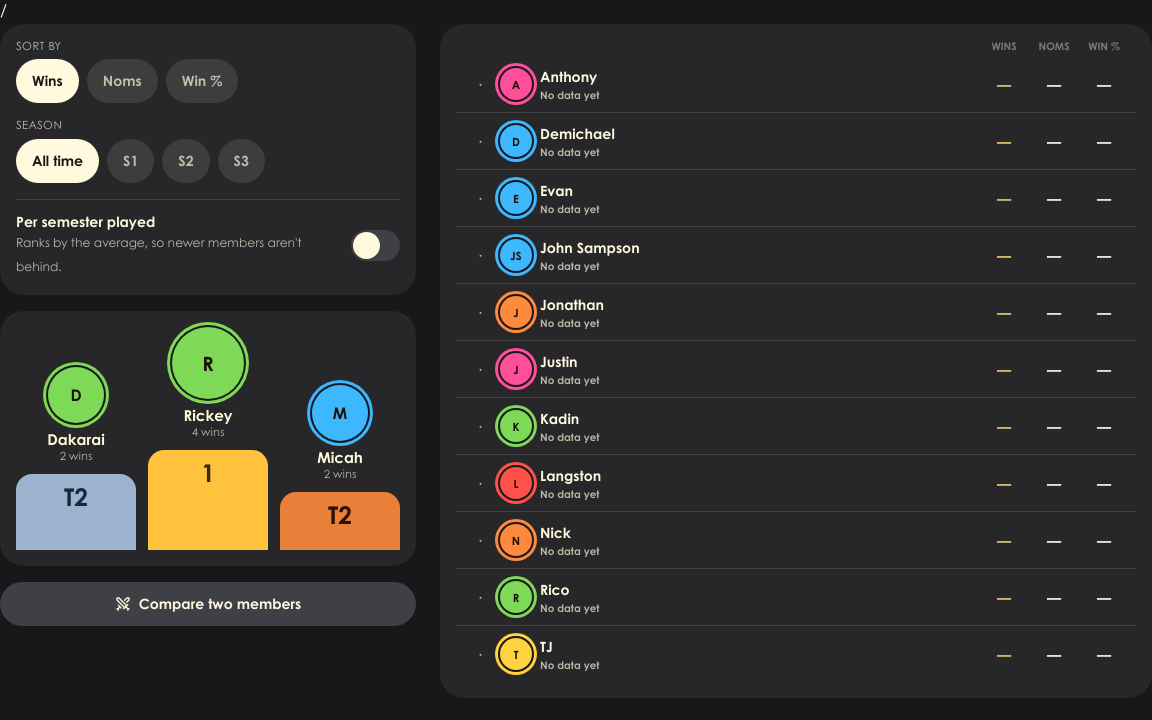
Test case: Compare sheet › fewer than 2 shared semesters: no verdict, just the count
Click the button "Compare two members" at point(208, 604), box [0, 582, 416, 626]
(page scrolled)
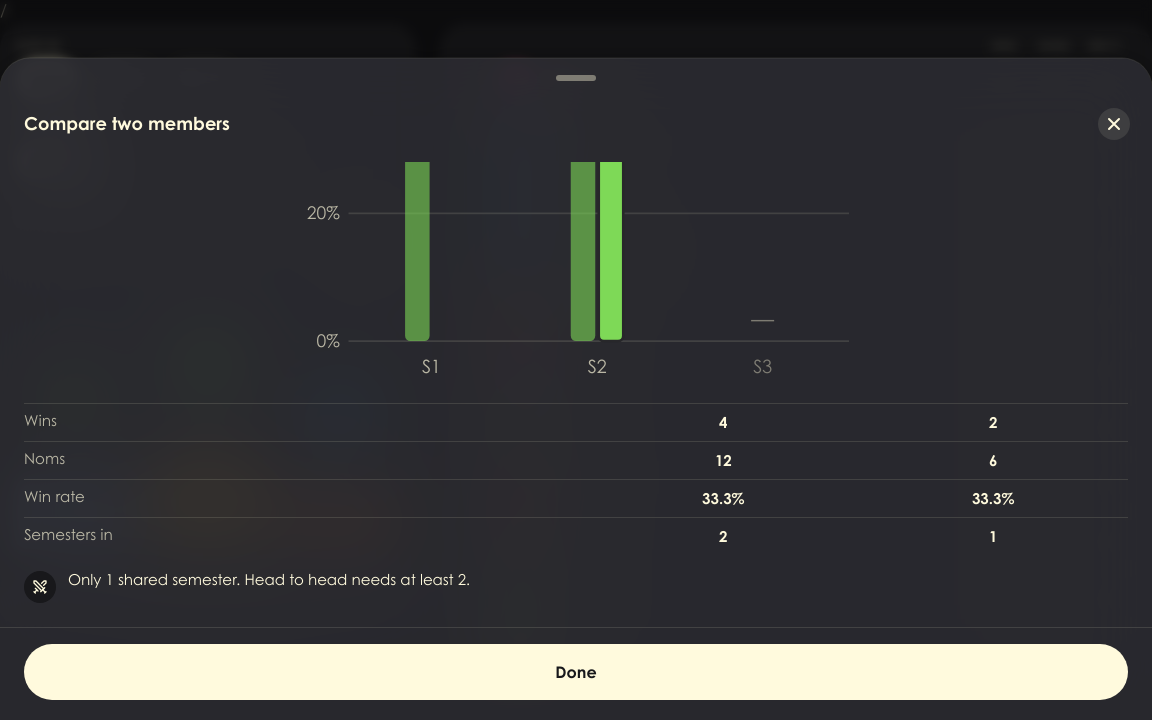
expect the text "Only 1 shared semester. Head to head needs at least 2." is shown: met, box [68, 571, 470, 592]
